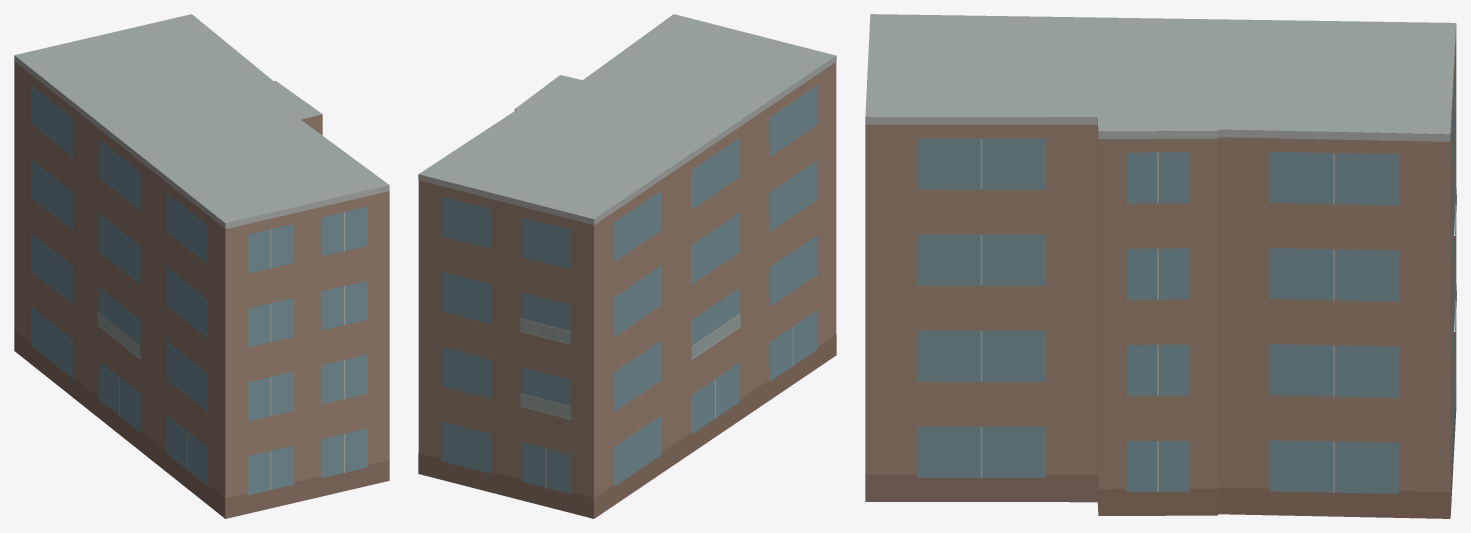
Rendered from survey-upis-32632507.glb.
3 views of the same model, side by side, from view 1: azimuth 30°, elevation 25°; view 2: azimuth 150°, elevation 25°; view 3: azimuth 270°, elevation 25° (orthographic). The views are drawn at different scales.
Visible parts, largest first — view 1: survey-upis-32632507.tmp; view 2: survey-upis-32632507.tmp; view 3: survey-upis-32632507.tmp.
Part boxes in pixels (<box>): survey-upis-32632507.tmp: <box>14,14,389,518</box>; survey-upis-32632507.tmp: <box>418,14,836,518</box>; survey-upis-32632507.tmp: <box>865,14,1456,518</box>.
Size of the model in its own units: 8.19 by 12.2 by 17.01.
